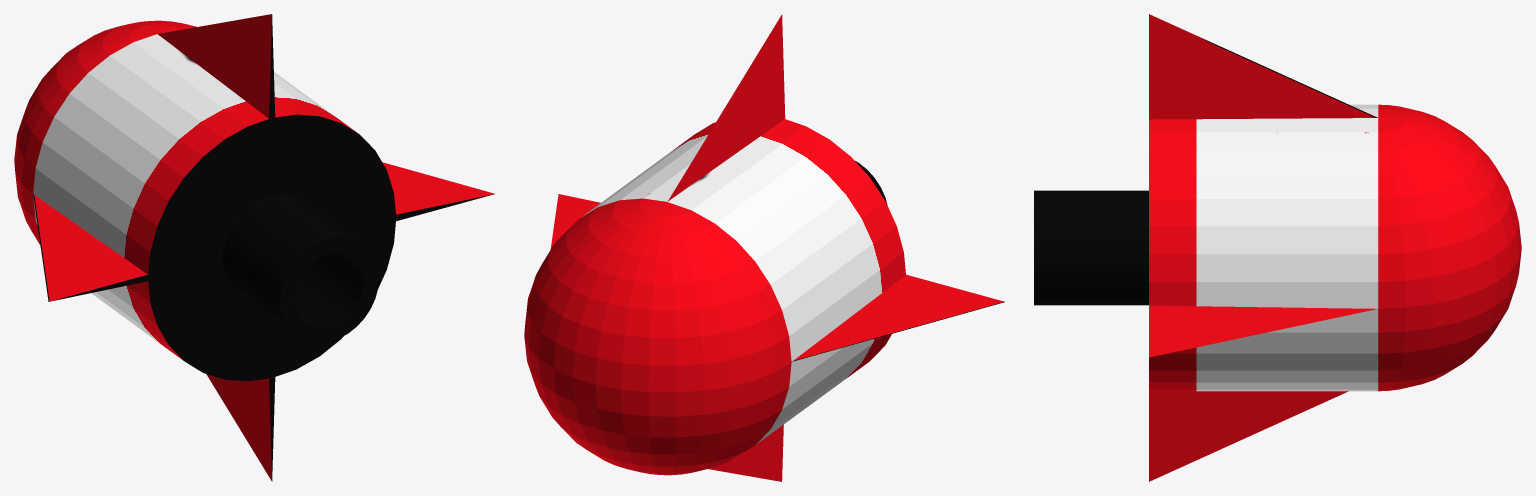
Rendered from Missile.obj.
3 views of the same model, side by side, from view 1: azimuth 30°, elevation 25°; view 2: azimuth 150°, elevation 25°; view 3: azimuth 270°, elevation 25° (orthographic).
Visible parts, largest first — view 1: 立方體.003; view 2: 立方體.003; view 3: 立方體.003.
Boxes of the visible parts, x1,y1,x2,y2 form: 立方體.003: [14, 14, 494, 481]; 立方體.003: [524, 15, 1004, 481]; 立方體.003: [1034, 14, 1521, 481].
Bounding box in the file's own units: 0.9 × 0.9 × 0.85.
Materials: 1 (1 with a texture image).
